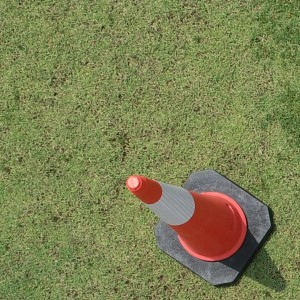traffic cone: (126, 170, 271, 285)
